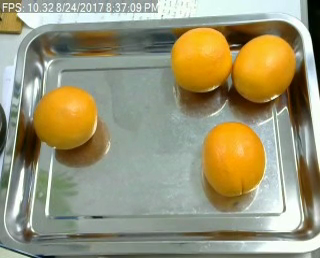Orange: (202, 121, 266, 196), (231, 34, 296, 104), (32, 85, 98, 148), (169, 25, 231, 92)
